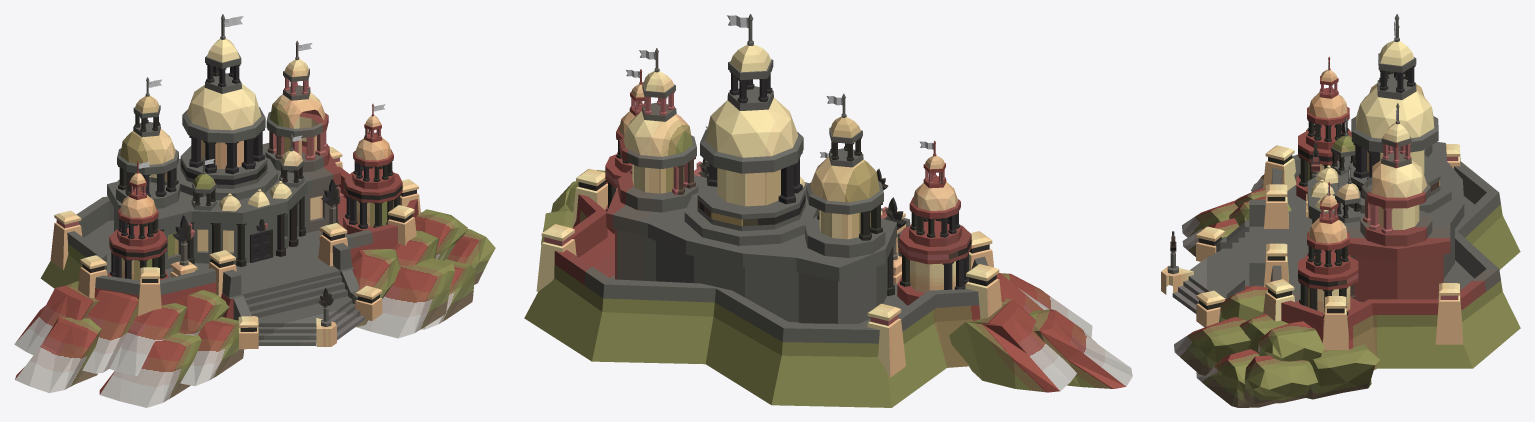
The model's file is Parid.fbx.
3 renders of one model, left to right at view 1: azimuth 30°, elevation 25°; view 2: azimuth 150°, elevation 25°; view 3: azimuth 270°, elevation 25°, orthographic. The views are drawn at different scales.
Visible parts, largest first — view 1: Parid, parid_flags; view 2: Parid, parid_flags; view 3: Parid.
Boxes of the visible parts, box(x1,y1,x2,y2) form: Parid: box(14, 14, 495, 407); parid_flags: box(138, 16, 385, 168); Parid: box(524, 14, 1132, 407); parid_flags: box(626, 15, 933, 158); Parid: box(1161, 14, 1520, 407).
Bounding box in the file's own units: 18.11 × 10.37 × 11.09.
